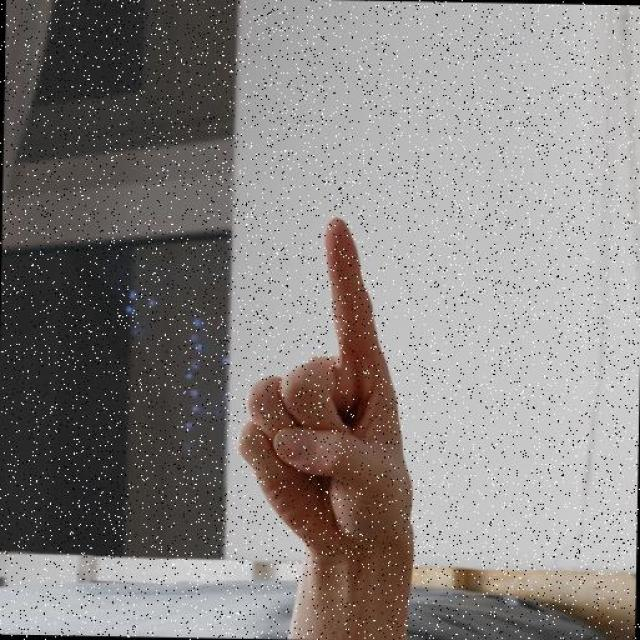Z: (202, 184, 477, 605)
